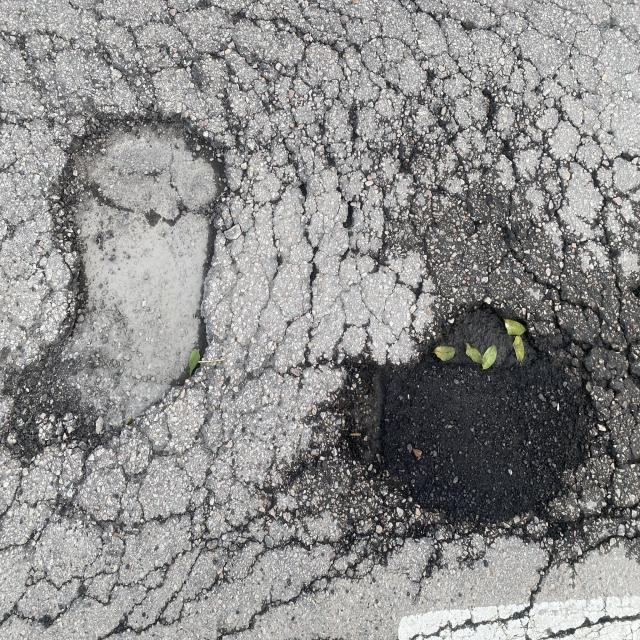pothole: (30, 89, 254, 478), (332, 267, 640, 538)
